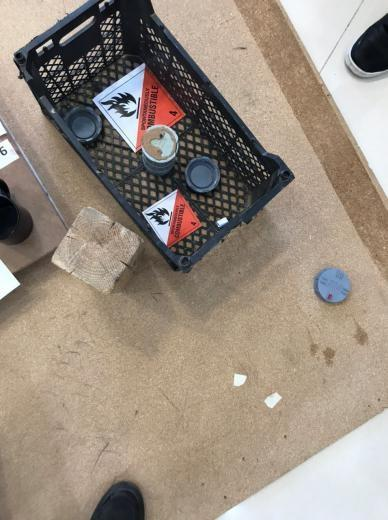spontaneously-combustible: (98, 66, 185, 151), (143, 190, 202, 247)
